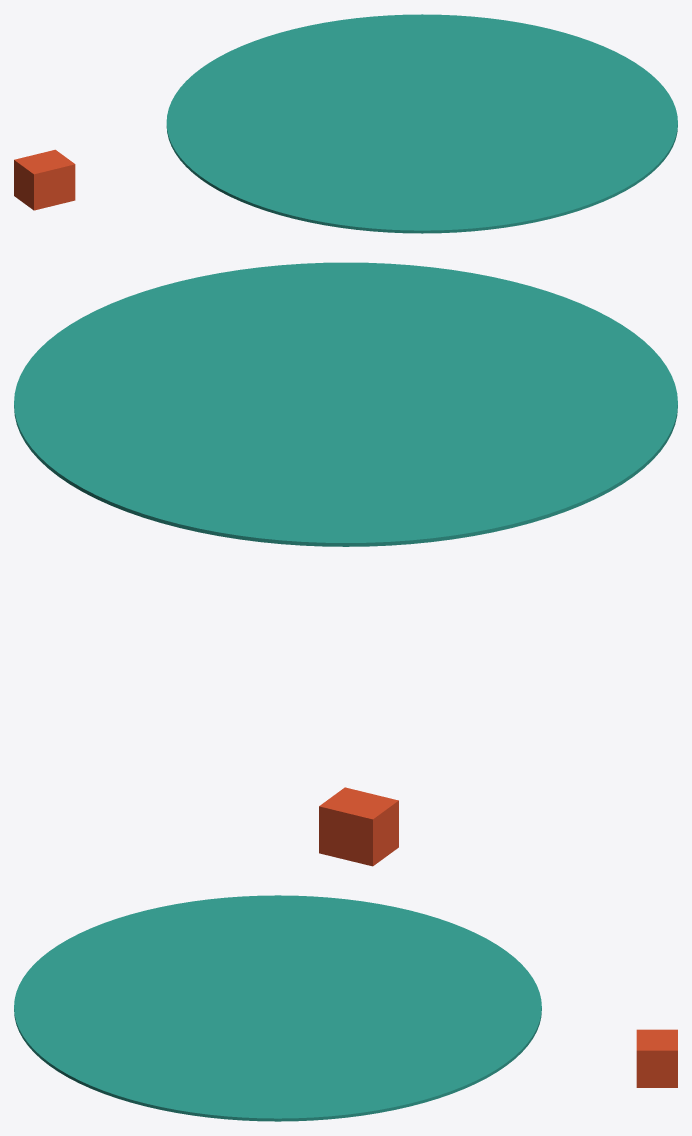
Rendered from foam_firefighting_system_pressure.glb.
3 renders of one model, top to bottom at view 1: azimuth 30°, elevation 25°; view 2: azimuth 150°, elevation 25°; view 3: azimuth 270°, elevation 25°, orthographic. The views are drawn at different scales.
Visible parts, largest first — view 1: pressure__back, pressure__front; view 2: pressure__back, pressure__front; view 3: pressure__back, pressure__front.
Part boxes in pixels (bbox=[...]): pressure__back: bbox=[14, 14, 643, 210]; pressure__front: bbox=[201, 68, 677, 233]; pressure__back: bbox=[14, 332, 633, 866]; pressure__front: bbox=[59, 262, 677, 475]; pressure__back: bbox=[278, 895, 677, 1121]; pressure__front: bbox=[14, 895, 277, 1121].
Size of the model in its own units: 3.2 by 1.12 by 4.02.
